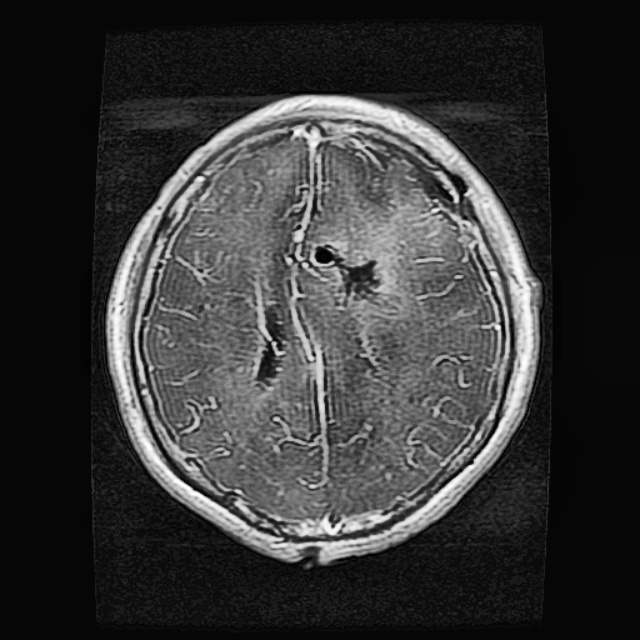Pituitary: (340, 259, 378, 299)
